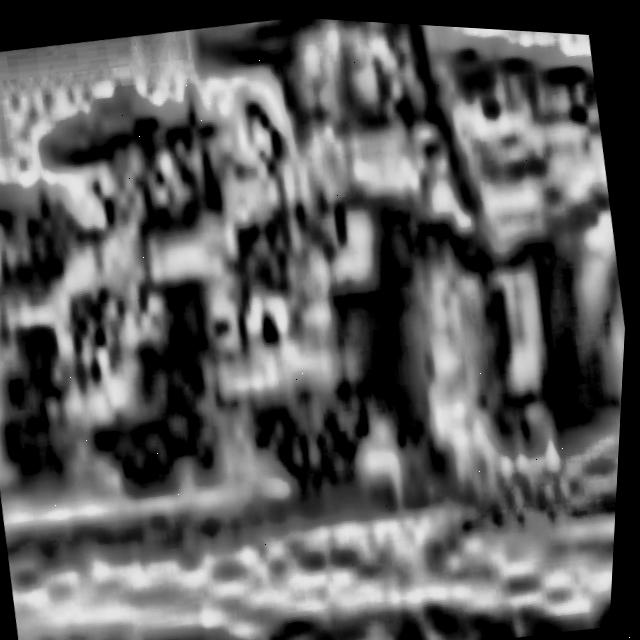dump_truck: (170, 9, 640, 502), (13, 59, 274, 529)
